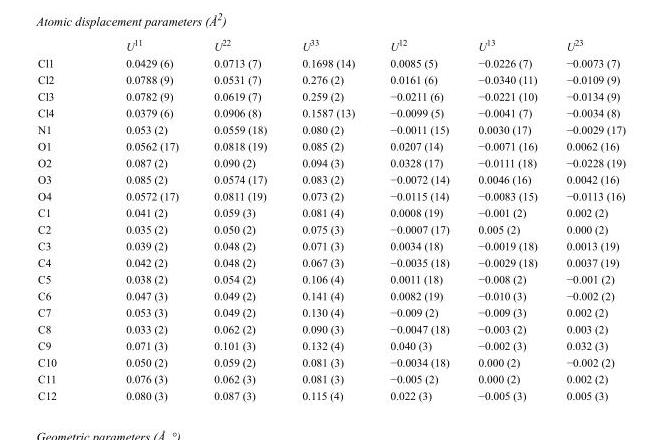table: (37, 36, 624, 401)
table column: (90, 36, 195, 401), (371, 36, 463, 401), (195, 36, 283, 401), (283, 36, 371, 401), (463, 36, 551, 401), (551, 36, 624, 401), (37, 36, 90, 401)
table column header: (37, 36, 624, 54)
table row: (37, 36, 624, 54), (37, 70, 624, 87), (37, 87, 624, 104), (37, 120, 624, 137), (37, 137, 624, 154), (37, 170, 624, 187), (37, 203, 624, 220), (37, 220, 624, 237), (37, 253, 624, 270), (37, 270, 624, 287), (37, 303, 624, 320), (37, 336, 624, 353), (37, 353, 624, 370), (37, 54, 624, 70), (37, 104, 624, 120), (37, 154, 624, 170), (37, 187, 624, 203), (37, 237, 624, 253), (37, 287, 624, 303), (37, 320, 624, 336), (37, 370, 624, 386), (37, 386, 624, 401)
